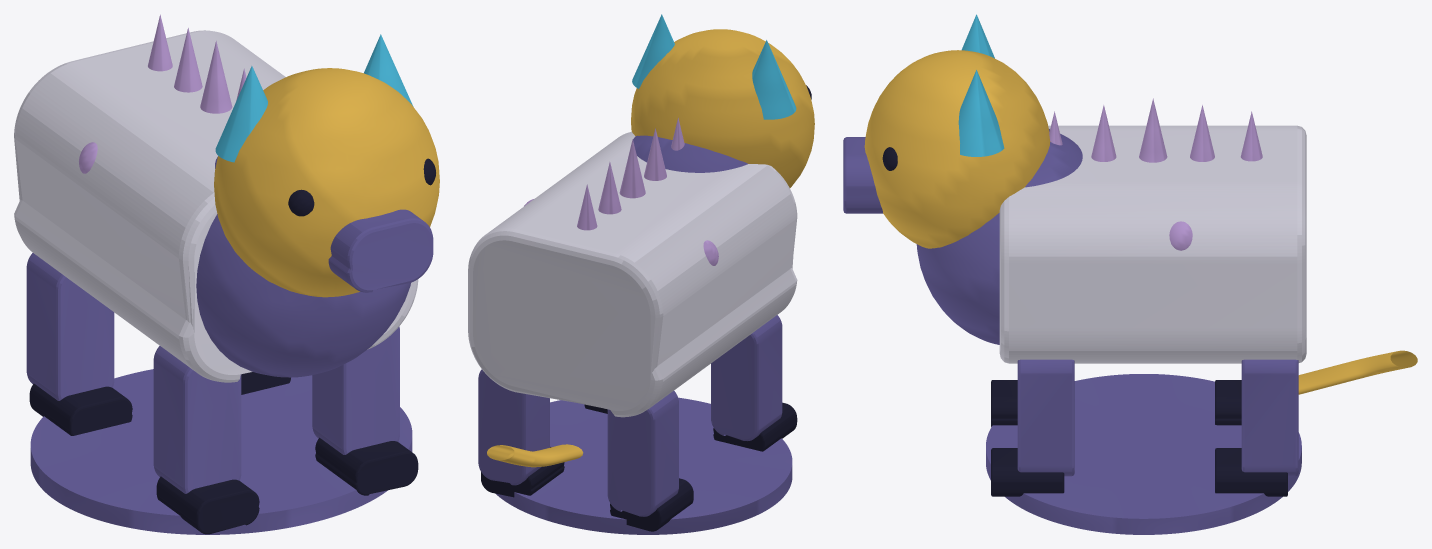
File: 0152_恐龙图鉴_梁龙.glb
3 views of the same model, side by side, from view 1: azimuth 30°, elevation 25°; view 2: azimuth 150°, elevation 25°; view 3: azimuth 270°, elevation 25° (orthographic). The views are drawn at different scales.
Parts seen in each view (by area): view 1: card_0152; view 2: card_0152; view 3: card_0152.
Part boxes in pixels (x1=…): card_0152: x1=14, y1=14, x2=439, y2=534; card_0152: x1=468, y1=14, x2=814, y2=534; card_0152: x1=843, y1=14, x2=1417, y2=534.
Size of the model in its own units: 0.739 by 1 by 1.24.
